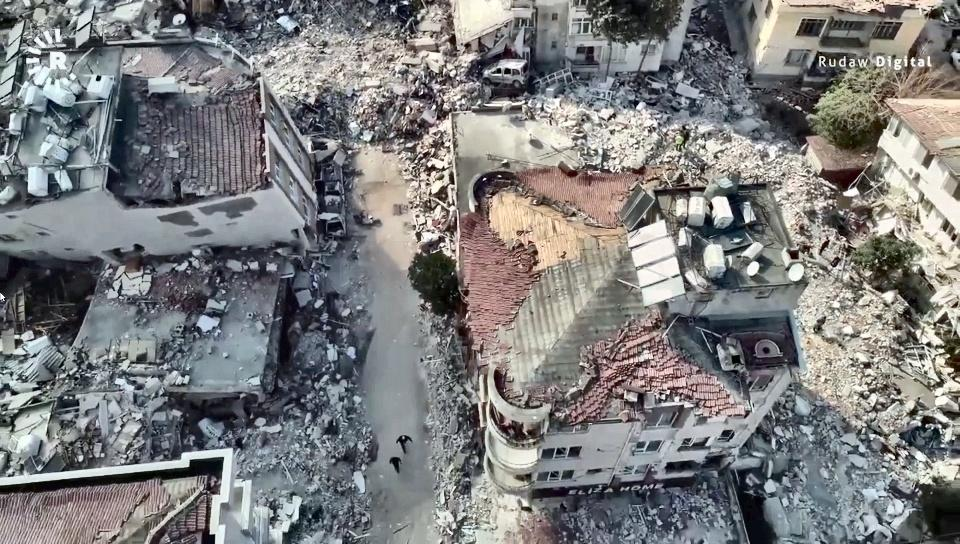kapali: (334, 0, 457, 211)
